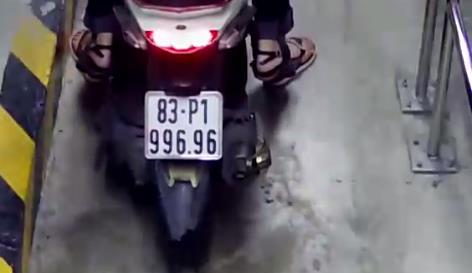lisence: (144, 90, 224, 158)
